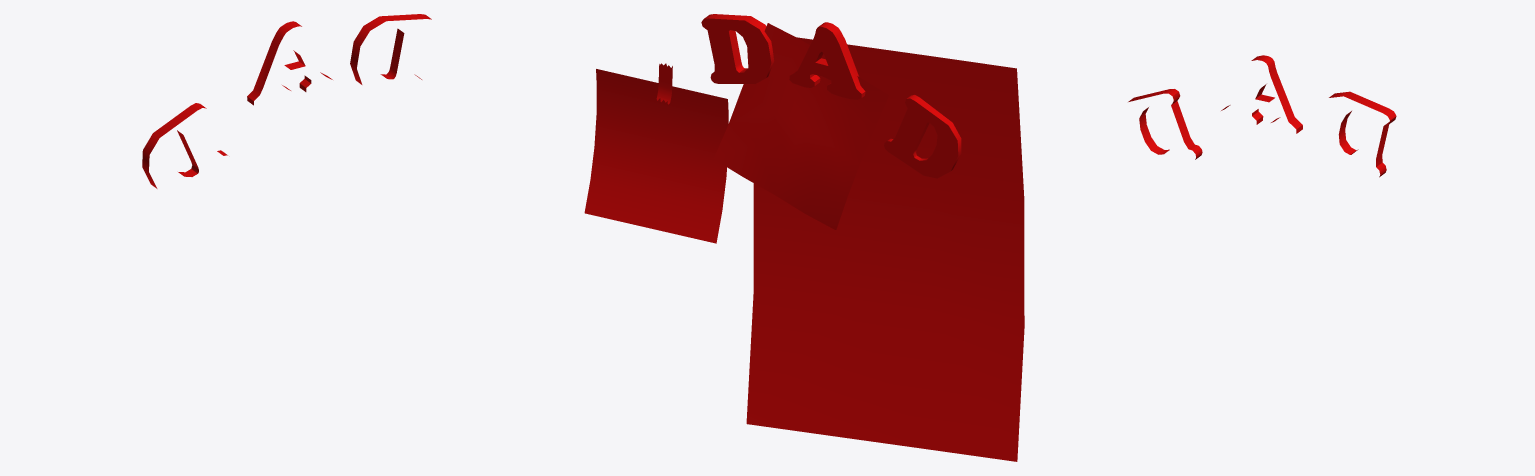
Rendered from Attic_NotesDad_01_LP.glb.
The picture shows the model from 3 angles, left to right: view 1: azimuth 30°, elevation 25°; view 2: azimuth 150°, elevation 25°; view 3: azimuth 330°, elevation 25°; orthographic projection. The views are drawn at different scales.
Visible parts, largest first — view 1: Attic_NotesDad_01_LP; view 2: Attic_NotesDad_01_LP; view 3: Attic_NotesDad_01_LP.
Part boxes in pixels (bbox=[...]): Attic_NotesDad_01_LP: bbox=[142, 14, 431, 188]; Attic_NotesDad_01_LP: bbox=[584, 14, 1024, 461]; Attic_NotesDad_01_LP: bbox=[1128, 55, 1396, 177].
Size of the model in its own units: 0.3771 by 0.3094 by 0.0493.
